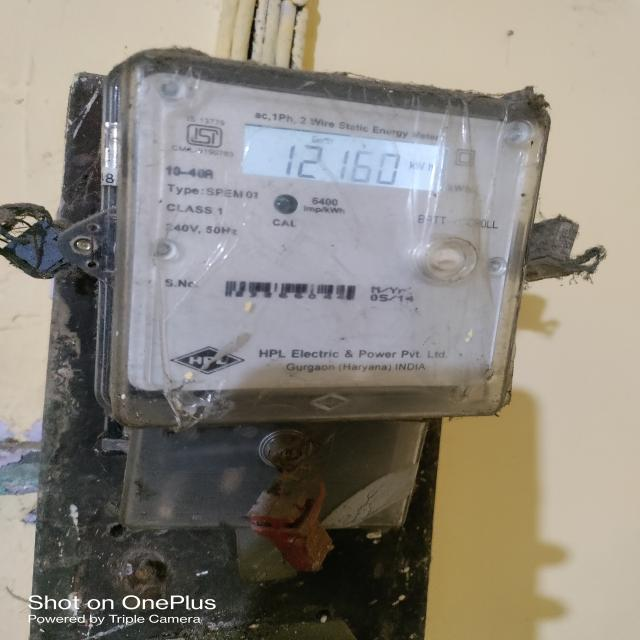display: (244, 129, 419, 195)
